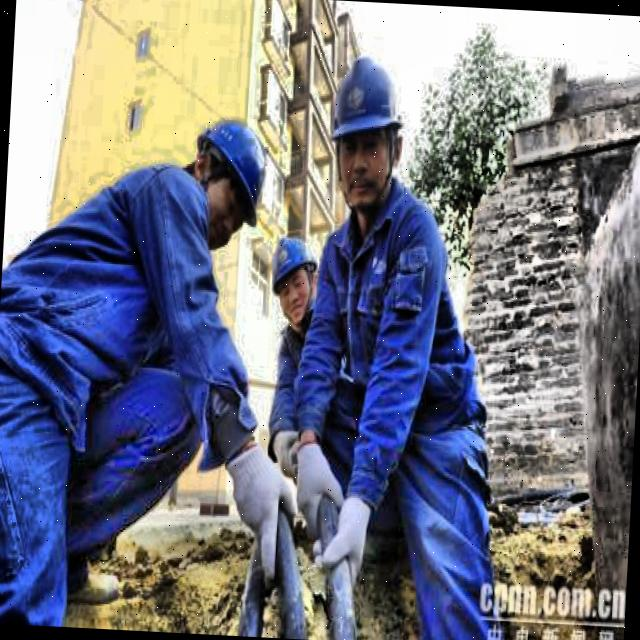helmet: (316, 36, 416, 224), (189, 116, 282, 240), (267, 226, 321, 332)
